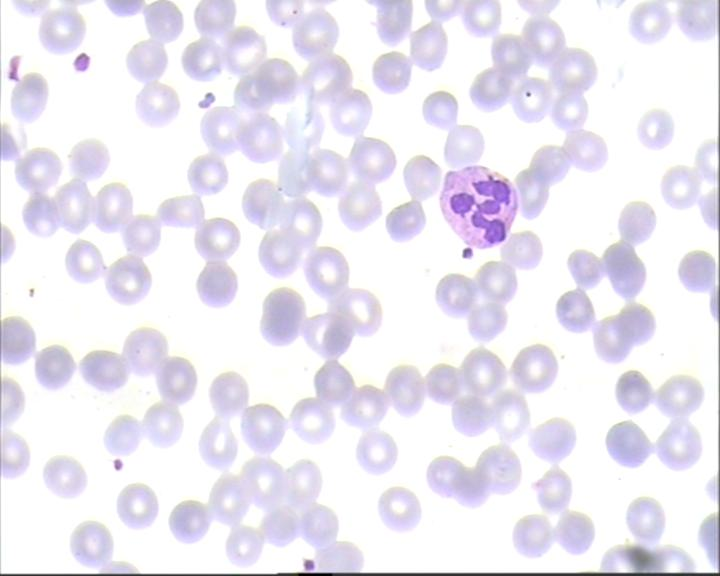neut: (439, 165, 519, 251)
